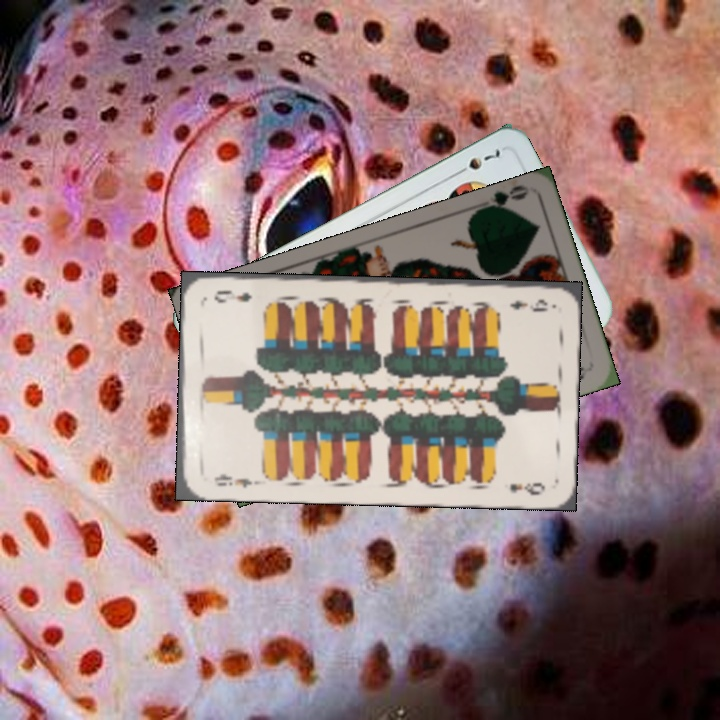E9: (210, 469, 260, 490), (506, 295, 551, 315)
GO: (473, 181, 531, 214)
S7: (450, 145, 503, 179)
